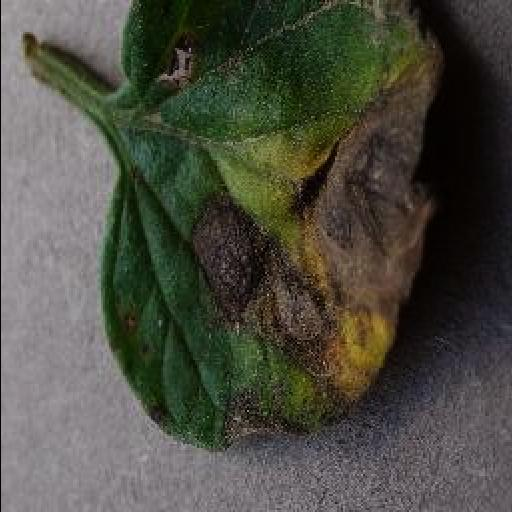Early Blight: (100, 2, 444, 454)
